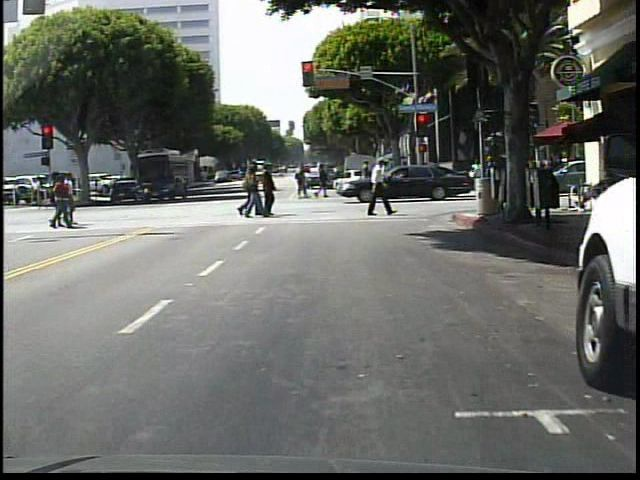person: (359, 157, 400, 223)
